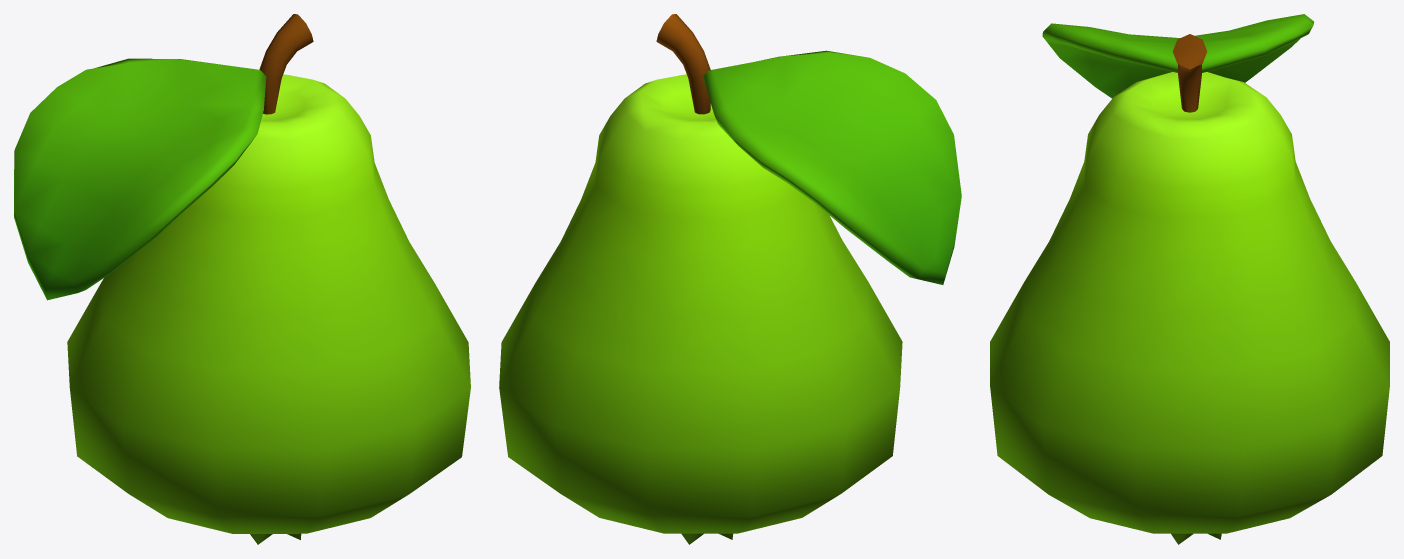
The model's file is Farm_Tree_Product_Guava_01.fbx.
3 renders of one model, left to right at view 1: azimuth 30°, elevation 25°; view 2: azimuth 150°, elevation 25°; view 3: azimuth 270°, elevation 25°, orthographic.
Visible parts, largest first — view 1: Farm_Tree_Product_Guava_01; view 2: Farm_Tree_Product_Guava_01; view 3: Farm_Tree_Product_Guava_01.
Boxes of the visible parts, x1,y1,x2,y2 form: Farm_Tree_Product_Guava_01: (14,14,470,544); Farm_Tree_Product_Guava_01: (499,14,961,544); Farm_Tree_Product_Guava_01: (990,14,1389,544).
Bounding box in the file's own units: 26.36 × 31.28 × 22.34.
